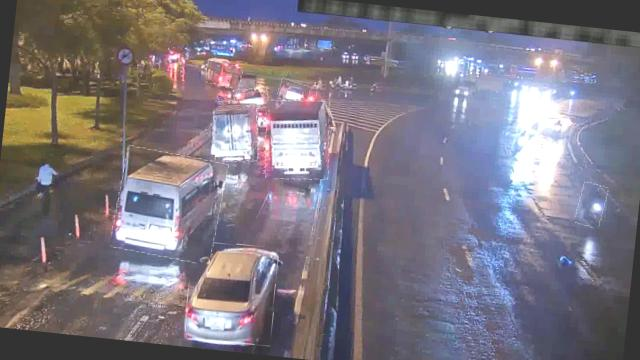Bike: (575, 182, 607, 228), (510, 127, 530, 160), (524, 115, 544, 143), (550, 117, 563, 140)
Bus: (110, 148, 227, 264), (205, 62, 242, 90)
Car: (183, 240, 280, 347), (233, 86, 269, 112), (276, 80, 310, 105)
Truck: (260, 96, 334, 183), (210, 98, 261, 164)
